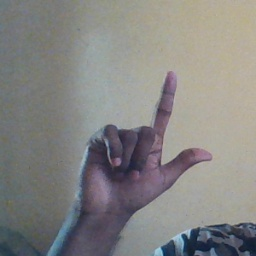L: (72, 71, 213, 214)
